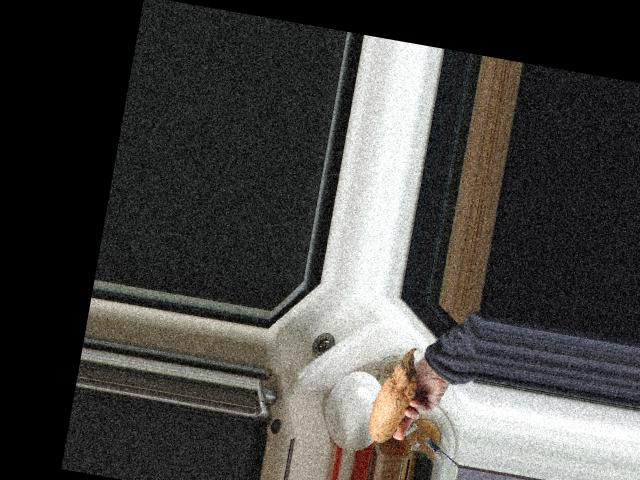sweet_potato: (363, 341, 423, 446)
